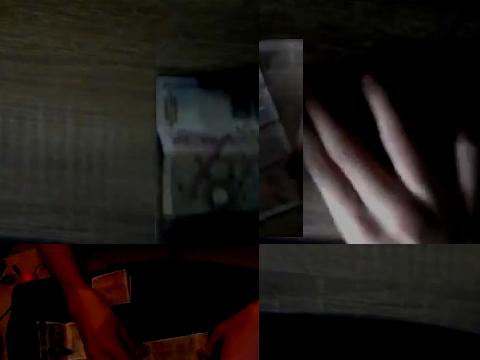10leva: (156, 76, 259, 244)
50leva: (142, 332, 210, 360)
5leva: (259, 61, 303, 223)
